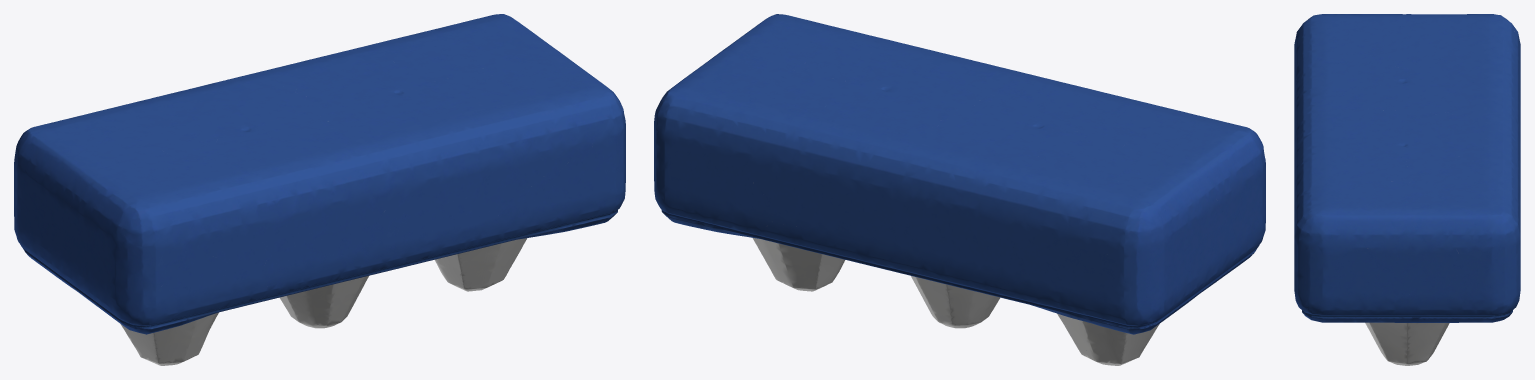
The model's file is Meshy_AI_Blue_Triple_Spike_1016092943_texture.fbx.
3 views of the same model, side by side, from view 1: azimuth 30°, elevation 25°; view 2: azimuth 150°, elevation 25°; view 3: azimuth 270°, elevation 25° (orthographic). The views are drawn at different scales.
Visible parts, largest first — view 1: Mesh_0; view 2: Mesh_0; view 3: Mesh_0.
Boxes of the visible parts, x1,y1,x2,y2 form: Mesh_0: (14, 14, 625, 365); Mesh_0: (654, 14, 1265, 365); Mesh_0: (1294, 14, 1520, 365).
Bounding box in the file's own units: 190 × 75.87 × 85.33.
1 material, 1 textured.
